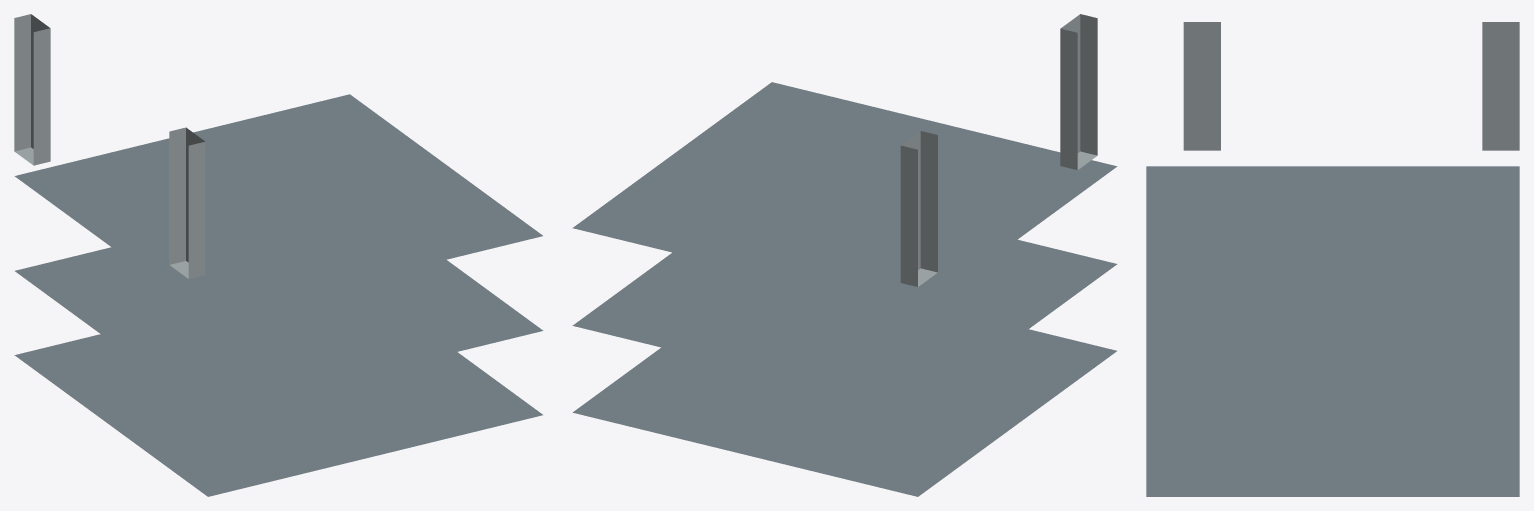
The model's file is cell_16.obj.
The picture shows the model from 3 angles, left to right: view 1: azimuth 30°, elevation 25°; view 2: azimuth 150°, elevation 25°; view 3: azimuth 270°, elevation 25°; orthographic projection. The views are drawn at different scales.
Bounding box in the file's own units: 1 × 0.96 × 1.
